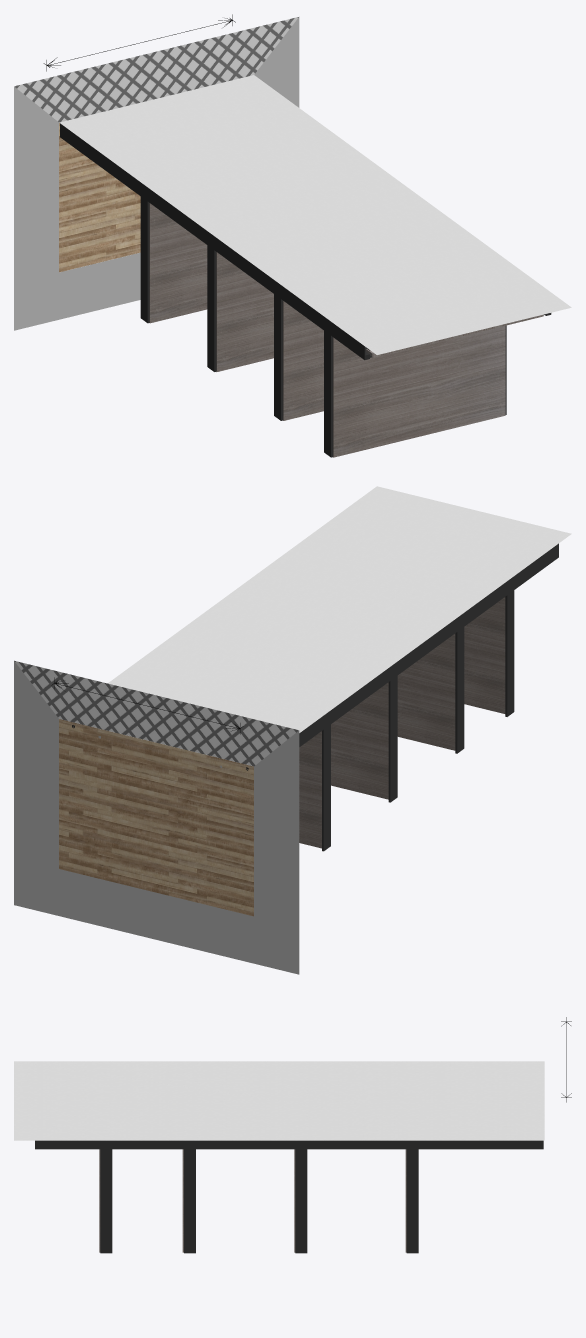
Rendered from D1 Linen SC.OBJ.
3 renders of one model, top to bottom at view 1: azimuth 30°, elevation 25°; view 2: azimuth 150°, elevation 25°; view 3: azimuth 270°, elevation 25°, orthographic. The views are drawn at different scales.
Parts seen in each view (by area): view 1: Object_42, Object_29, Object_43, Object_49, Object_41, Object_38, Object_35, Object_47, Object_2, Object_32, Object_45, Object_39 (+3 smaller); view 2: Object_42, Object_41, Object_43, Object_47, Object_49, Object_45, Object_32, Object_35, Object_29, Object_2, Object_38, Object_33 (+3 smaller); view 3: Object_42, Object_21, Object_31, Object_37, Object_40, Object_34.
Boxes of the visible parts, box(x1,y1,x2,y2) form: Object_42: box(59, 75, 571, 354); Object_29: box(333, 325, 505, 457); Object_43: box(14, 17, 298, 122); Object_49: box(14, 86, 58, 330); Object_41: box(59, 123, 140, 272); Object_38: box(149, 203, 207, 323); Object_35: box(216, 252, 273, 371); Object_47: box(14, 252, 140, 330); Object_2: box(60, 123, 369, 360); Object_32: box(283, 301, 323, 420); Object_45: box(254, 17, 299, 107); Object_39: box(140, 196, 149, 323); Object_42: box(108, 486, 571, 732); Object_41: box(59, 719, 253, 916); Object_43: box(14, 660, 298, 766); Object_47: box(14, 869, 298, 974); Object_49: box(254, 730, 299, 974); Object_45: box(14, 661, 58, 904); Object_32: box(397, 633, 455, 750); Object_35: box(331, 682, 388, 799); Object_29: box(464, 597, 505, 713); Object_2: box(299, 543, 558, 746); Object_38: box(299, 731, 321, 848); Object_33: box(455, 627, 464, 753); Object_42: box(14, 1061, 544, 1140); Object_21: box(35, 1140, 543, 1149); Object_31: box(100, 1149, 112, 1253); Object_37: box(295, 1149, 307, 1253); Object_40: box(406, 1149, 418, 1253); Object_34: box(184, 1149, 195, 1253).
Size of the model in its own units: 1264 by 1060 by 2565.
11 materials, 11 textured.
